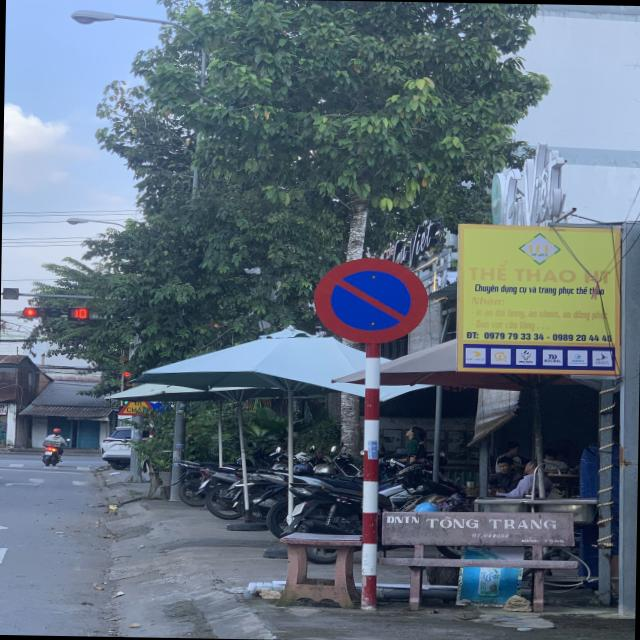Cam_Dau_Xe: (315, 256, 432, 346)
